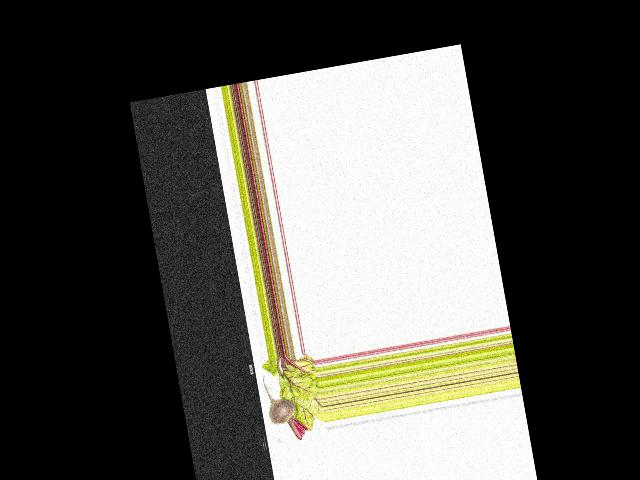beet: (261, 370, 309, 444)
